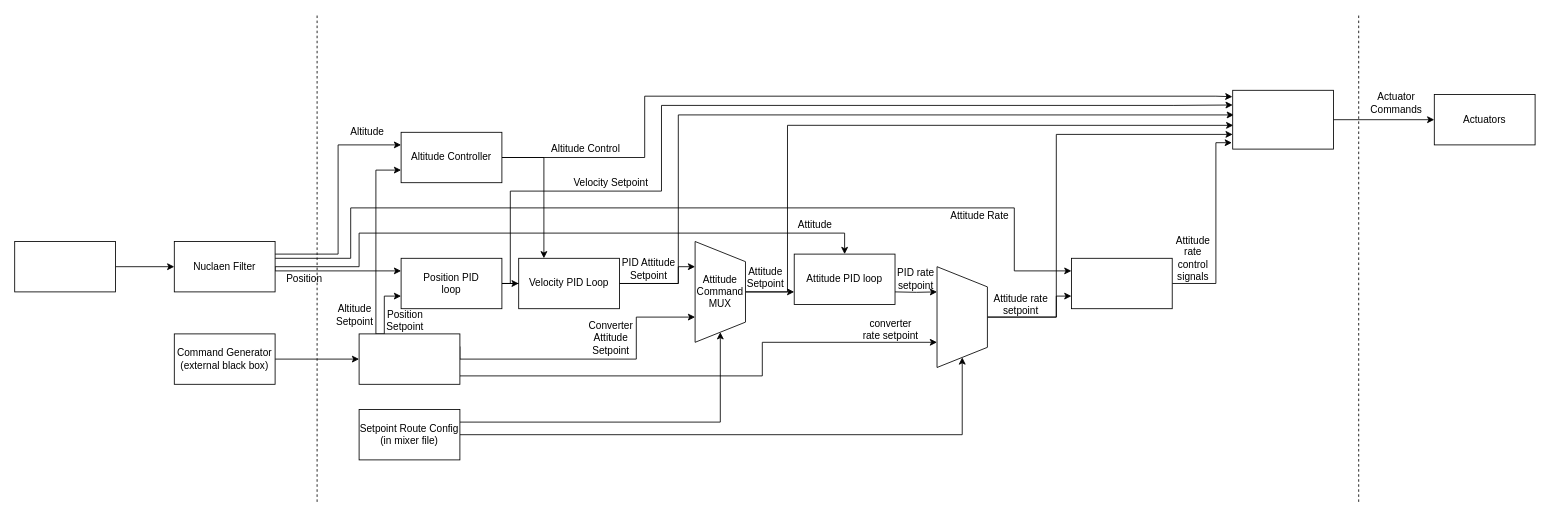
This 1550x517 diagram has some shape labels left out. The centre of each missing label's shape, as x and y in pixels:
"Attitude Rate Command MUX" belongs at [961,317].
"Attitude Rate PID loop" belongs at [1121,283].
"Command Converter (config in mixer file)" belongs at [409,358].
"Mixer" belongs at [1283,119].
"Sensor Data" belongs at [65,266].
